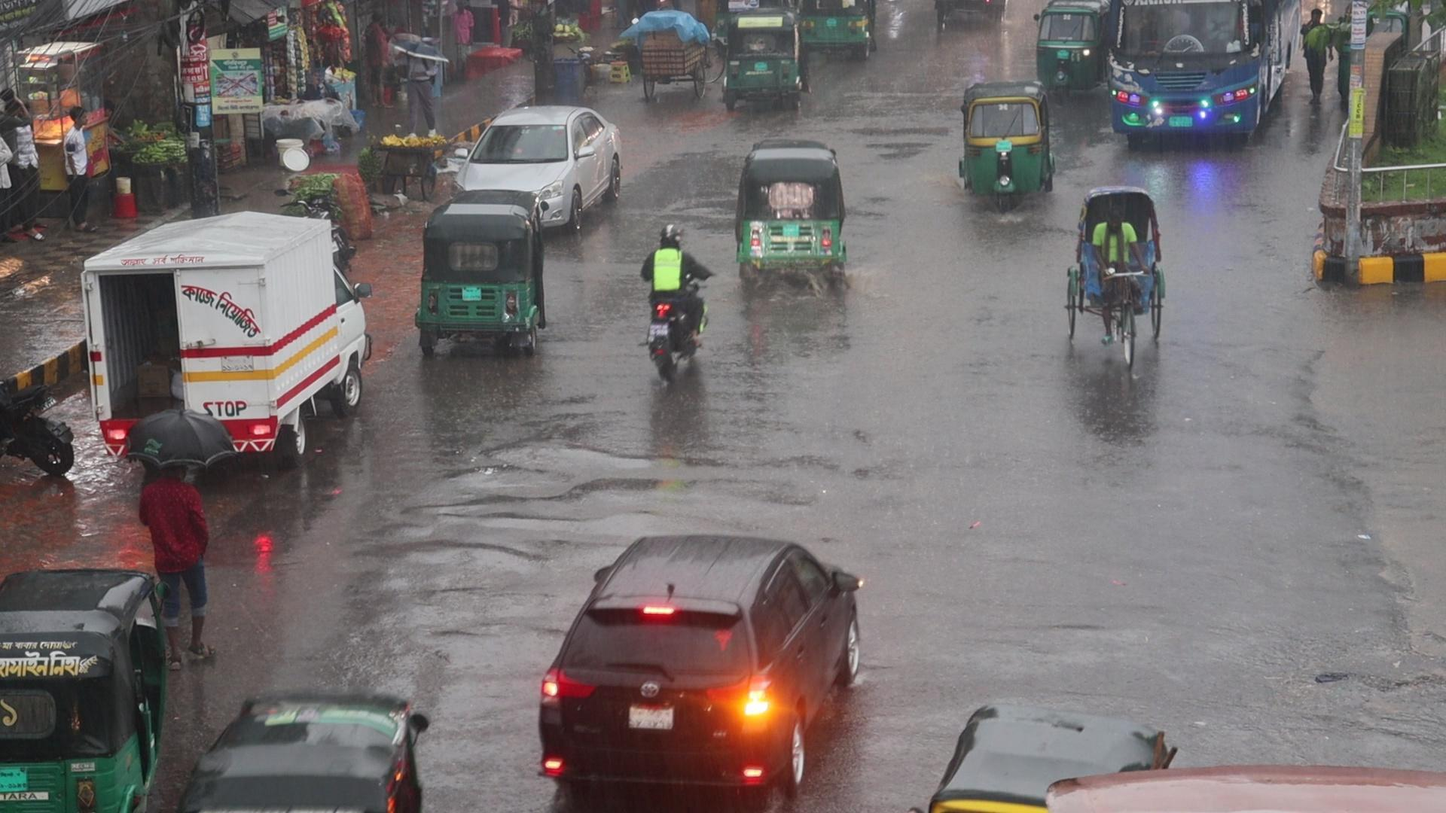Bike: (637, 222, 716, 383)
Bus: (1106, 0, 1303, 148)
Car: (534, 527, 863, 803)
